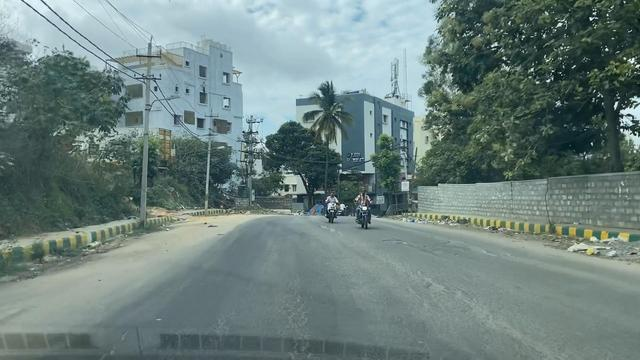RoadDamages: (310, 222, 350, 245)
